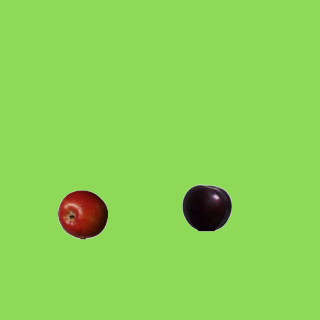Apple Braeburn: (57, 189, 107, 239)
Cherry Wax Black: (181, 182, 231, 232)
